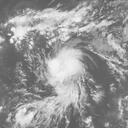cyclone: (45, 47, 86, 84)
